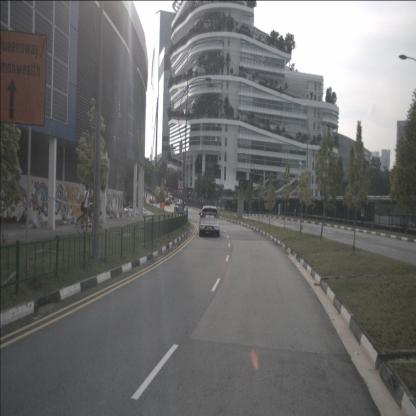human-pedestrian-adult: (80, 184, 90, 232), (360, 206, 365, 228)
vehicle-bicycle: (76, 202, 103, 236)
vehicle-car: (199, 205, 220, 237), (174, 202, 184, 214), (178, 198, 185, 208), (149, 196, 155, 204), (165, 198, 170, 206), (167, 196, 172, 204)
